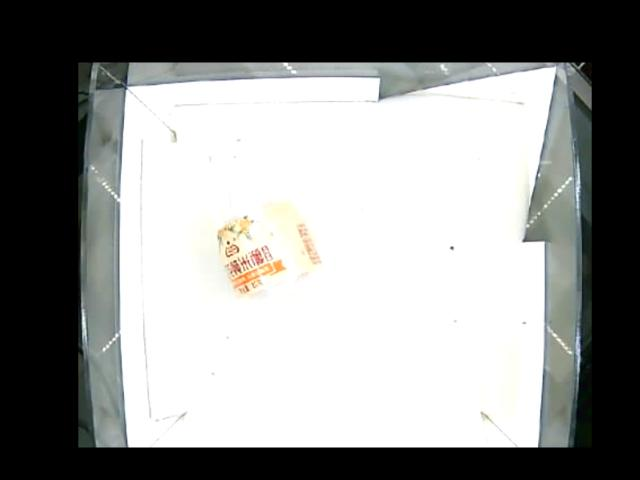Bottle: (207, 161, 326, 303)
